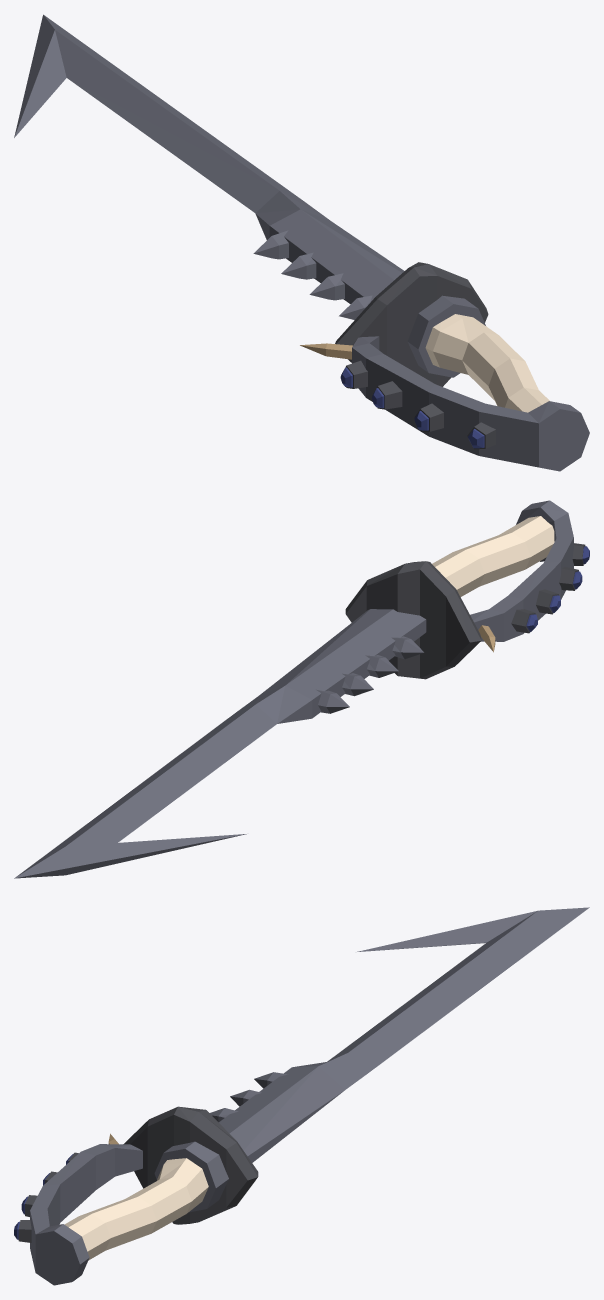
File: sword_20.glb
The picture shows the model from 3 angles, top to bottom: view 1: azimuth 30°, elevation 25°; view 2: azimuth 150°, elevation 25°; view 3: azimuth 330°, elevation 25°; orthographic projection. The views are drawn at different scales.
Visible parts, largest first — view 1: sword_20; view 2: sword_20; view 3: sword_20.
Part boxes in pixels (box(x1,y1,x2,y2)): sword_20: box(14, 14, 589, 471); sword_20: box(14, 500, 589, 878); sword_20: box(14, 907, 589, 1285).
Size of the model in its own units: 0.1523 by 0.1091 by 0.8258.
1 material, 1 textured.
